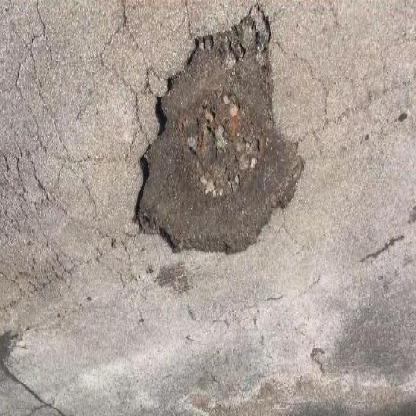pothole: (131, 10, 307, 268)
